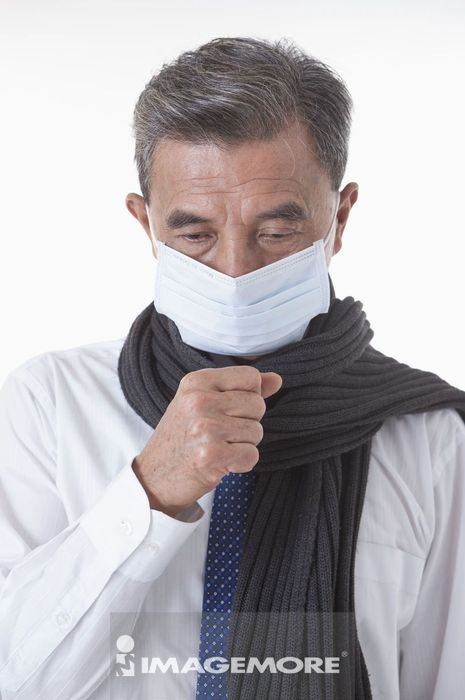mask: (152, 240, 333, 357)
